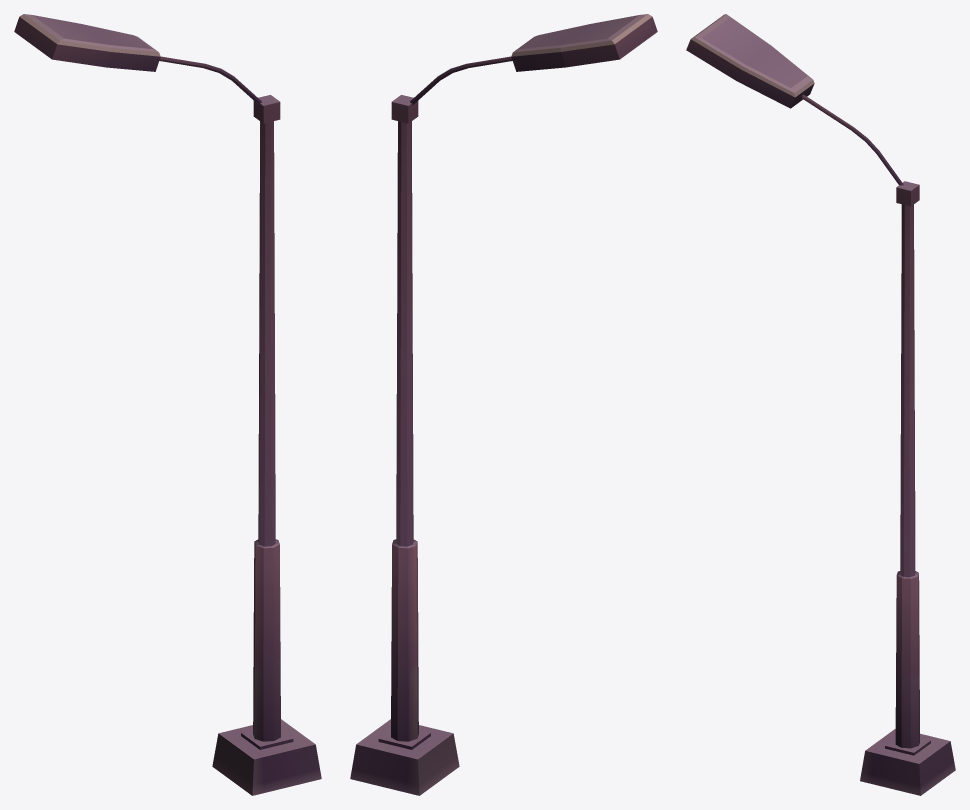
The model's file is Farol.fbx.
3 views of the same model, side by side, from view 1: azimuth 30°, elevation 25°; view 2: azimuth 150°, elevation 25°; view 3: azimuth 330°, elevation 25° (orthographic). The views are drawn at different scales.
Parts seen in each view (by area): view 1: Light_01.001; view 2: Light_01.001; view 3: Light_01.001.
Part boxes in pixels (left/top/right/bottom): Light_01.001: left=14, top=14, right=321, bottom=795; Light_01.001: left=350, top=14, right=657, bottom=795; Light_01.001: left=686, top=14, right=955, bottom=795.
Size of the model in its own units: 377 by 1074 by 97.46.
Materials: 1 (1 with a texture image).
